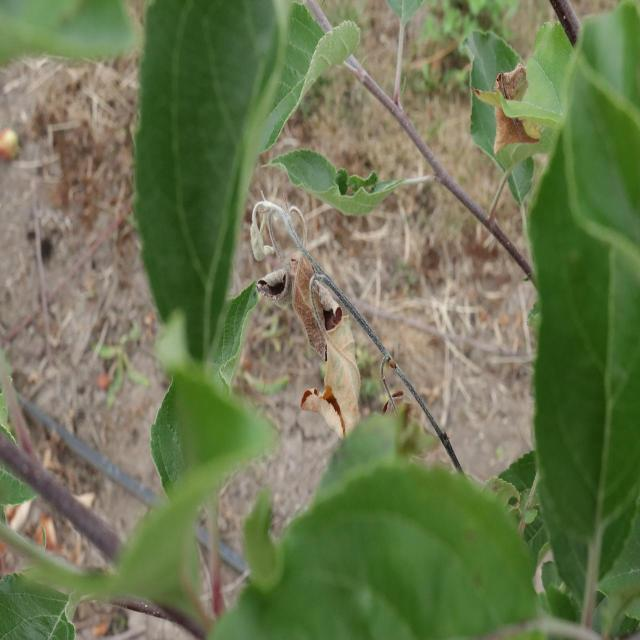-FireBlight-: (279, 208, 357, 428)
